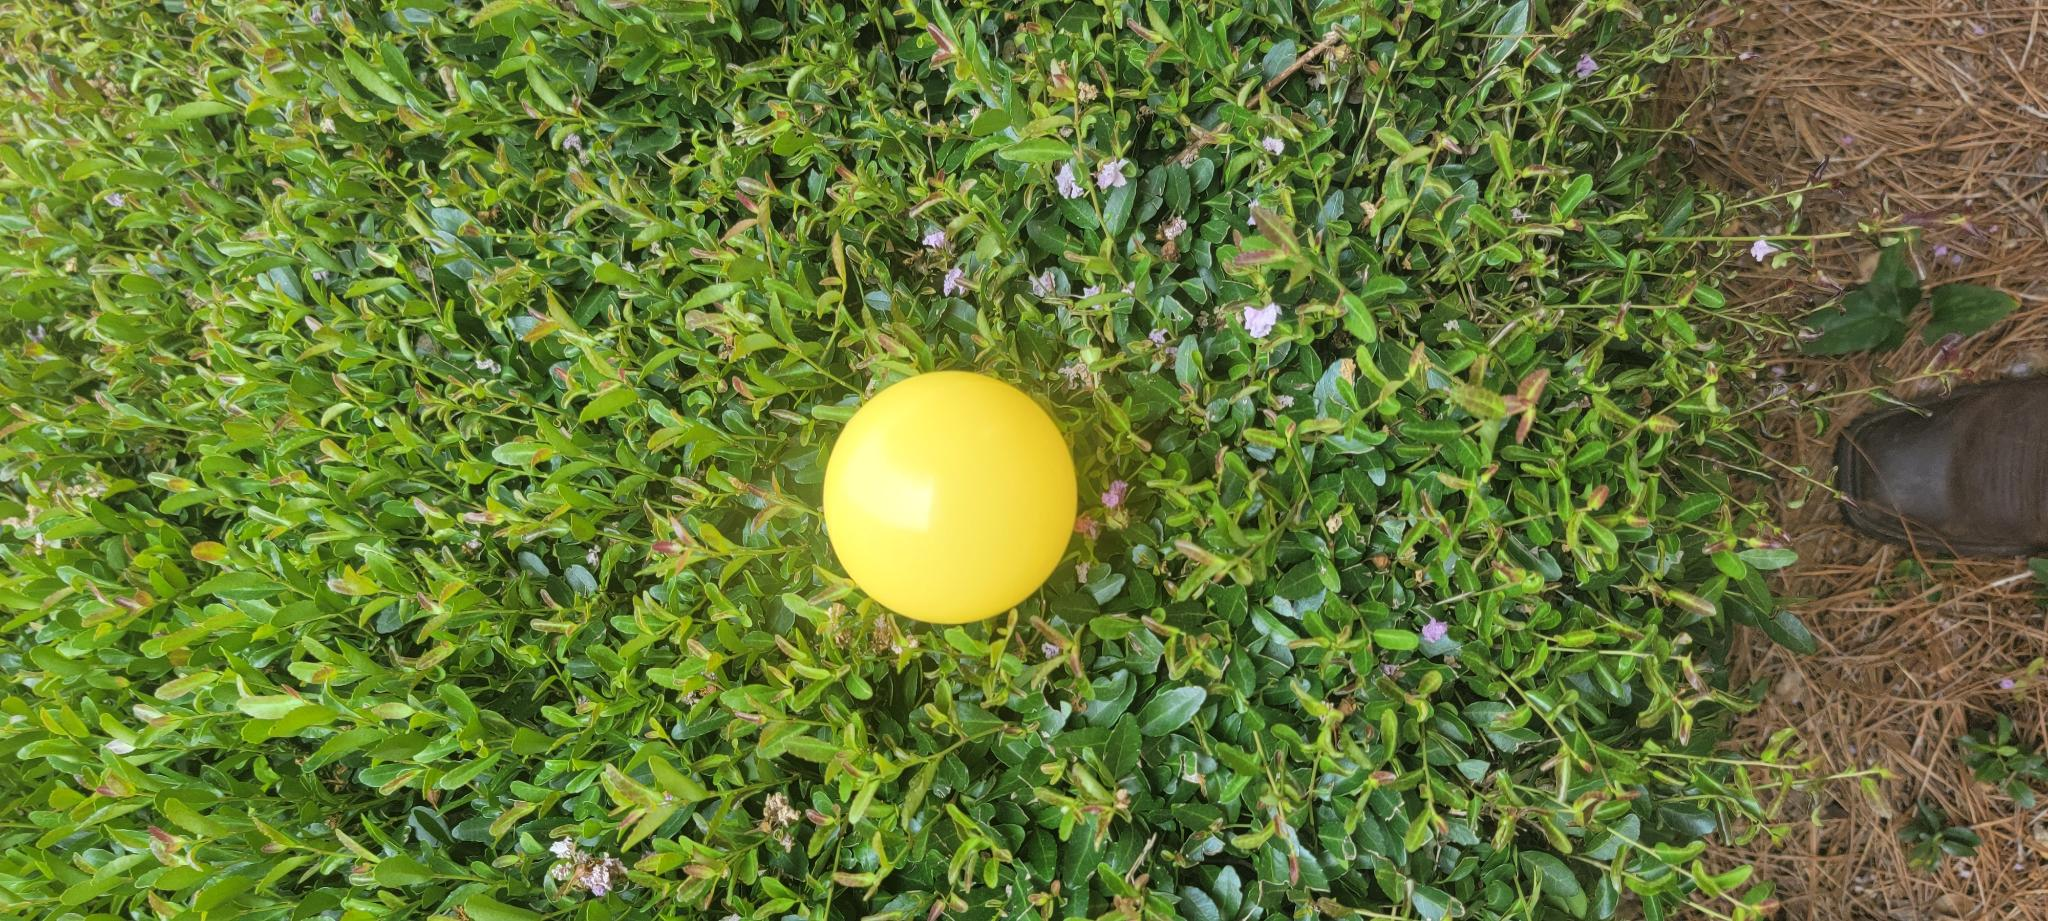Yellow-Ball: (972, 298, 1225, 553)
